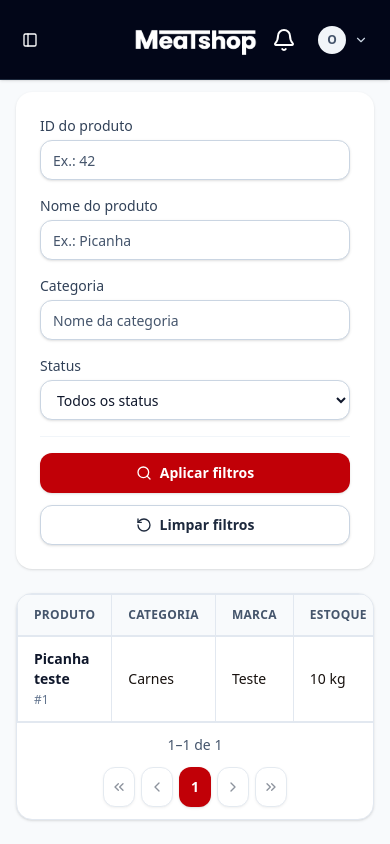
Scenario: Management dialogs › opens and closes product details on mobile
(page scrolled)
Click the text "Picanha teste".
click(65, 680)  # box [18,637,112,722]
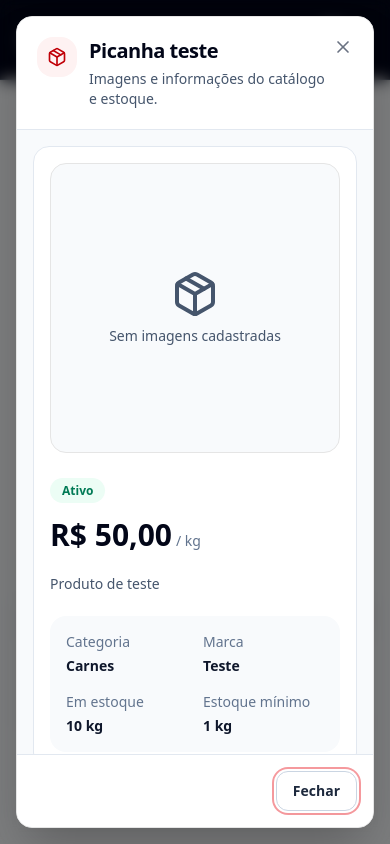
Expected: the heading "Picanha teste" is shown, [89,37,218,64]
Expected: the text "Em estoque" is shown, [66,692,144,711]
Expected: the button "Fechar" is shown
Click the button "Fechar".
click(317, 791)  # box [276,771,357,811]
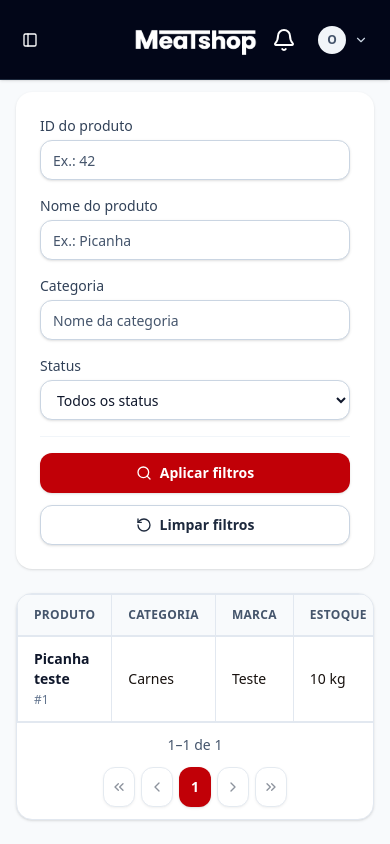
Expected: the dialog is gone
